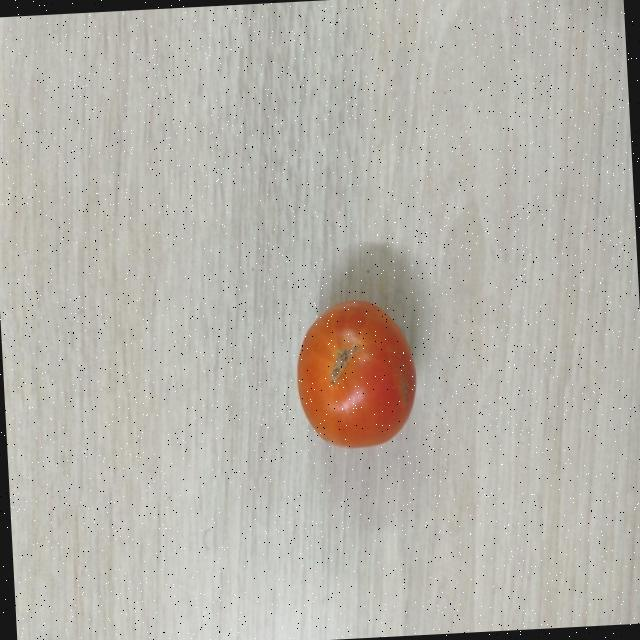Tomato: (289, 292, 421, 452)
